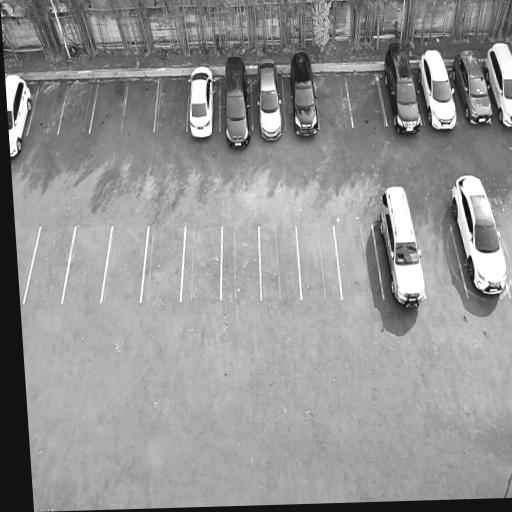Car: (446, 168, 512, 298), (374, 181, 431, 309), (379, 35, 424, 135), (413, 43, 460, 136), (447, 44, 497, 128), (288, 47, 320, 140), (223, 52, 253, 149), (481, 38, 512, 131), (5, 74, 38, 160), (254, 55, 285, 144), (188, 63, 215, 139)
Space Available: (415, 222, 468, 297), (24, 226, 75, 303), (62, 225, 112, 302), (334, 222, 383, 299), (101, 224, 148, 303), (296, 223, 343, 299), (141, 225, 186, 303), (181, 225, 223, 301), (259, 225, 301, 299), (221, 225, 261, 300), (345, 72, 387, 126), (27, 82, 68, 133), (315, 73, 352, 127), (89, 80, 128, 131), (59, 82, 97, 134), (122, 79, 159, 132), (154, 79, 189, 131), (499, 223, 512, 282)
